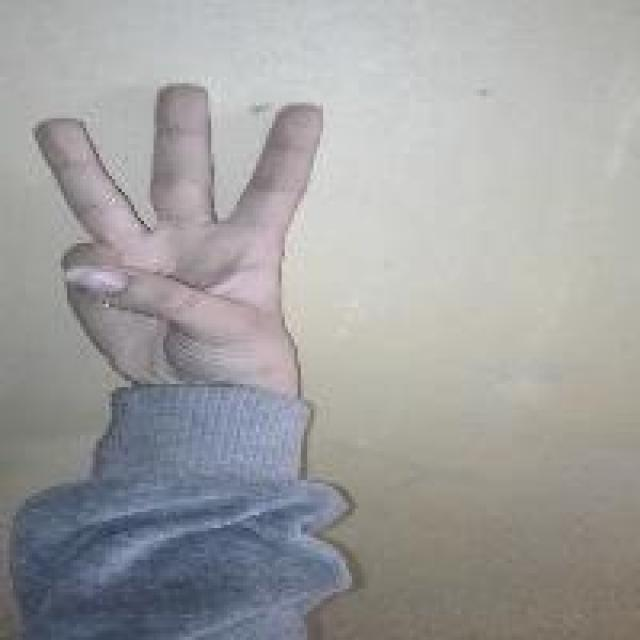W: (31, 80, 334, 397)
